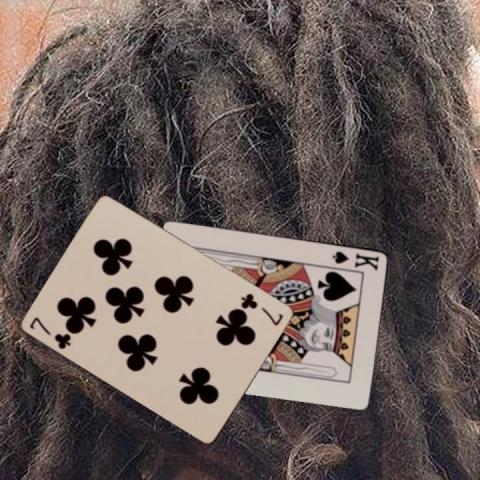7c: (27, 313, 73, 351), (238, 290, 285, 327)
Ks: (329, 248, 381, 272)
